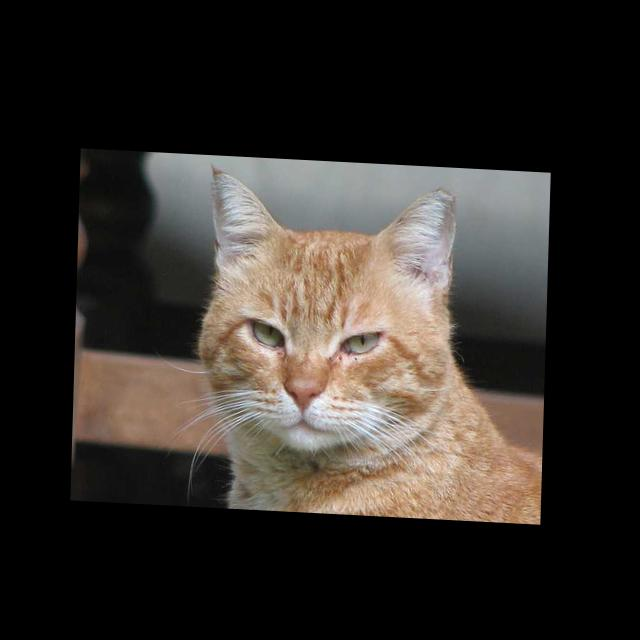animals: (212, 170, 454, 410)
